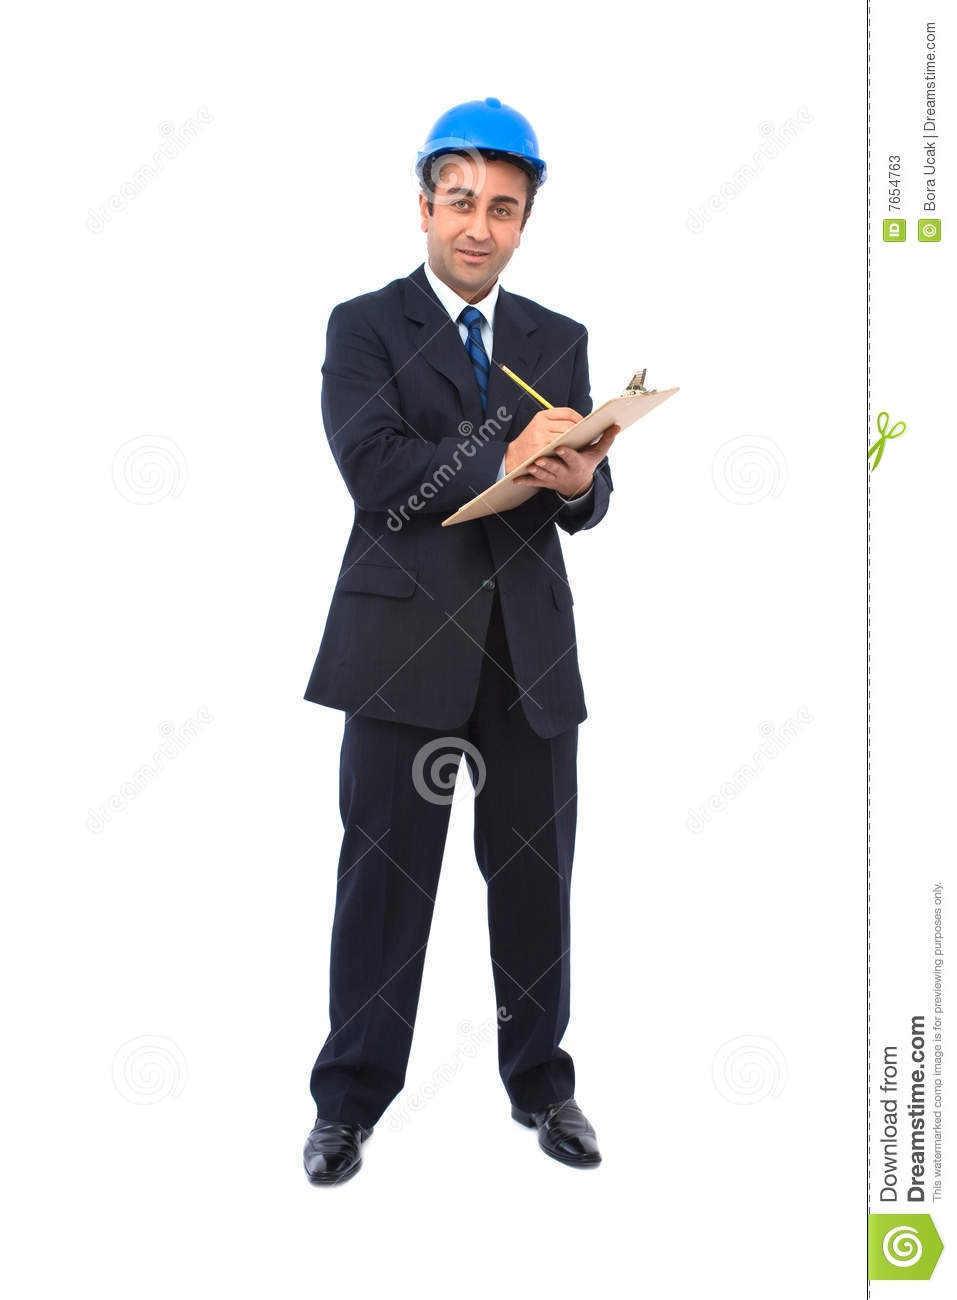blue: (402, 93, 548, 286)
